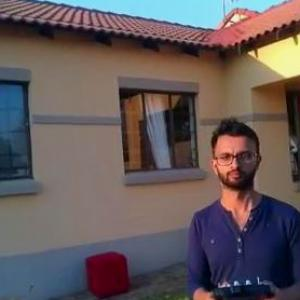follow: (172, 105, 299, 299)
null: (1, 279, 39, 299)
